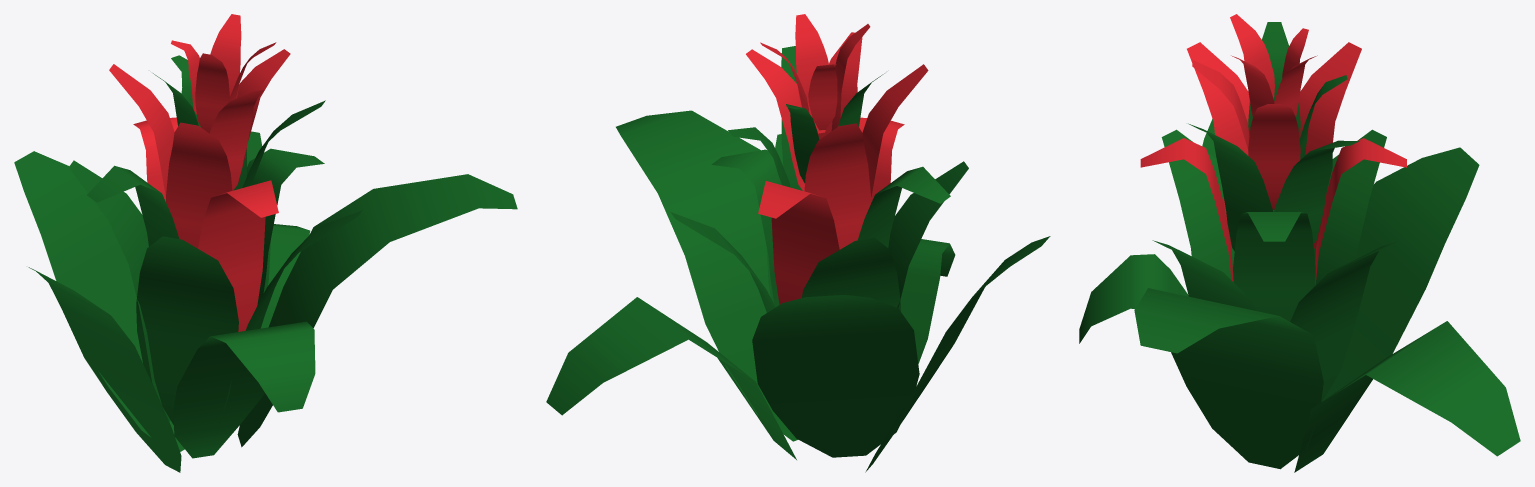
The model's file is SM_Flower_A.fbx.
The picture shows the model from 3 angles, left to right: view 1: azimuth 30°, elevation 25°; view 2: azimuth 150°, elevation 25°; view 3: azimuth 270°, elevation 25°; orthographic projection. The views are drawn at different scales.
Parts seen in each view (by area): view 1: SM_Flower_A.001; view 2: SM_Flower_A.001; view 3: SM_Flower_A.001.
Part boxes in pixels (x1,y1,x2,y2): SM_Flower_A.001: (14, 14, 517, 472); SM_Flower_A.001: (546, 14, 1050, 472); SM_Flower_A.001: (1079, 14, 1520, 472).
Size of the model in its own units: 84.71 by 68.34 by 75.31.
